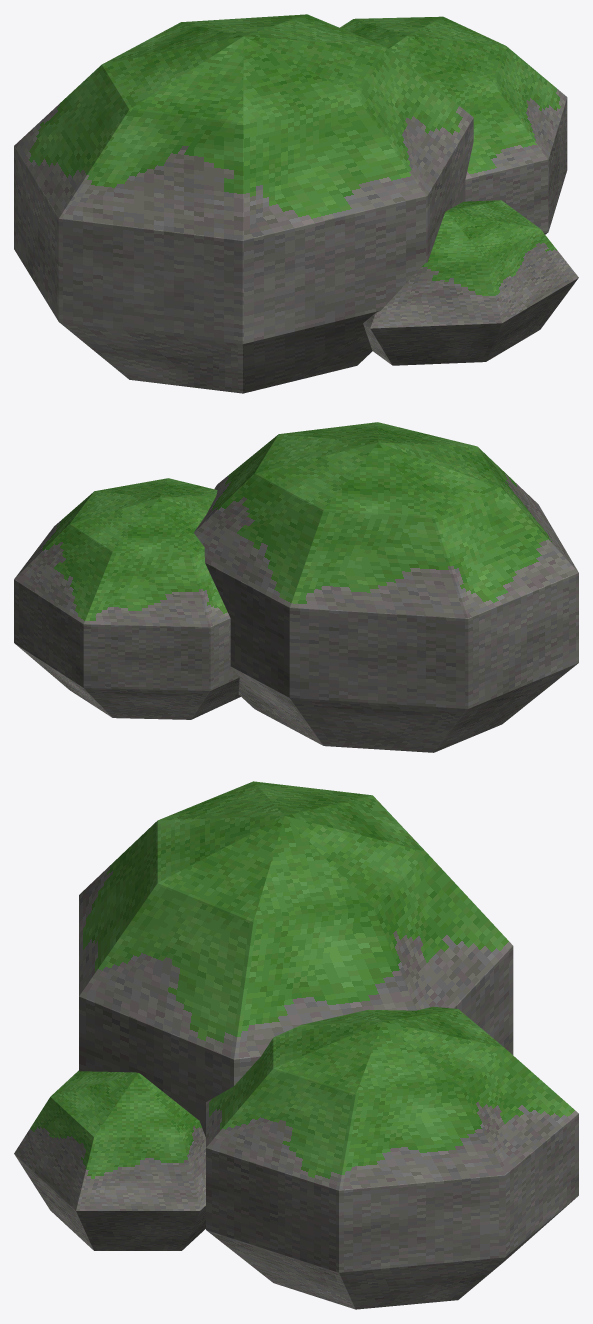
The model's file is pedras_musgosas.glb.
3 renders of one model, top to bottom at view 1: azimuth 30°, elevation 25°; view 2: azimuth 150°, elevation 25°; view 3: azimuth 270°, elevation 25°, orthographic. The views are drawn at different scales.
Parts seen in each view (by area): view 1: pedras_musgosas; view 2: pedras_musgosas; view 3: pedras_musgosas.
Part boxes in pixels (x1,y1,x2,y2): pedras_musgosas: [14, 14, 578, 393]; pedras_musgosas: [14, 422, 578, 752]; pedras_musgosas: [14, 781, 578, 1309].
Size of the model in its own units: 1.77 by 1.02 by 1.39.
1 material, 1 textured.
